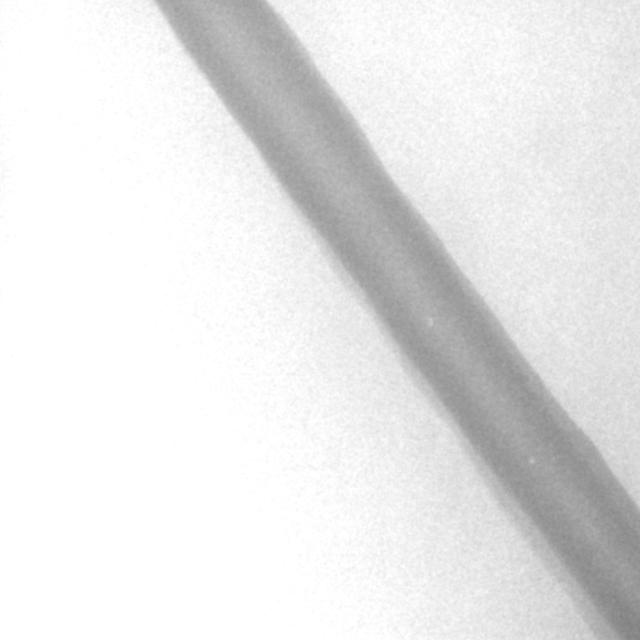air hole: (423, 314, 436, 330), (526, 454, 536, 467)
